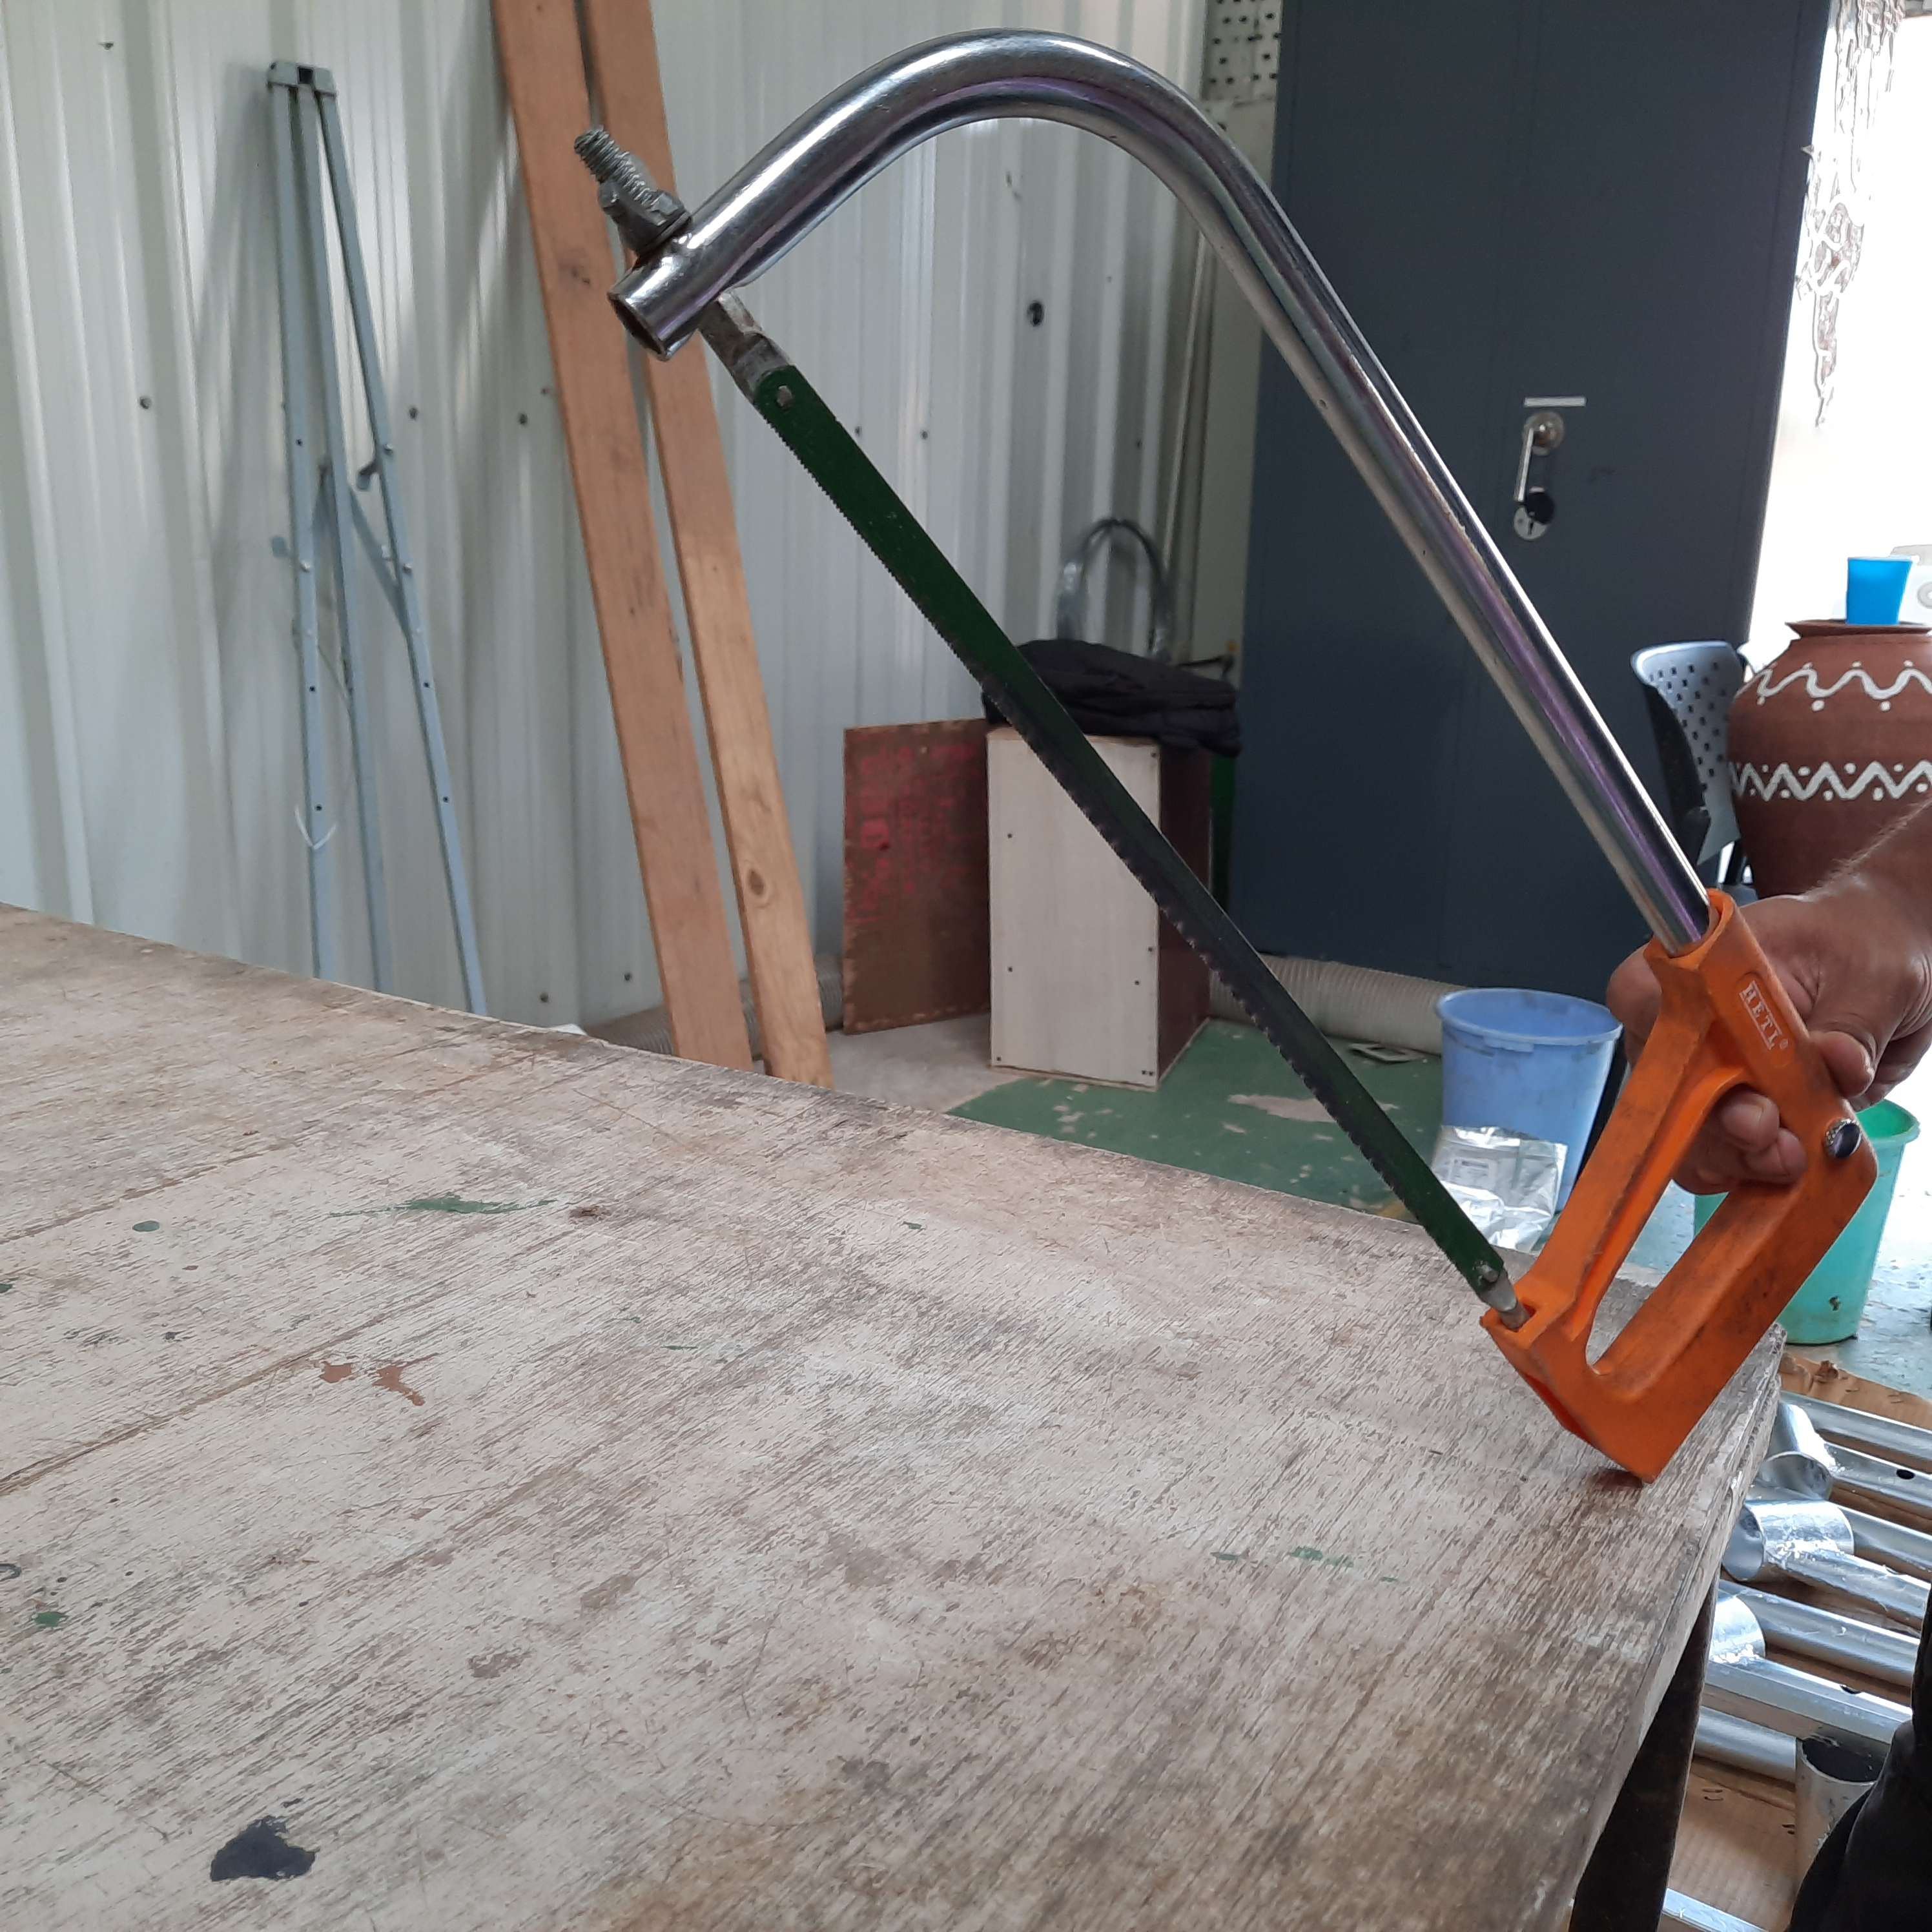Hexaframe: (566, 14, 1890, 1506)
